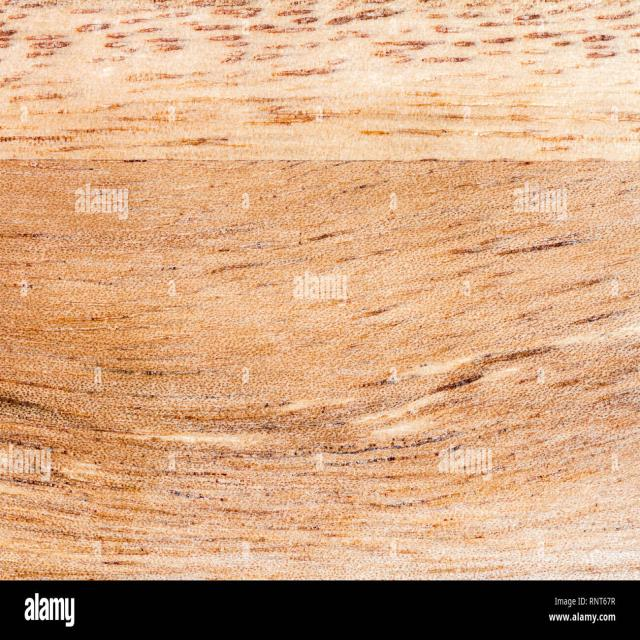perfect-wooden-plate: (0, 0, 640, 578)
